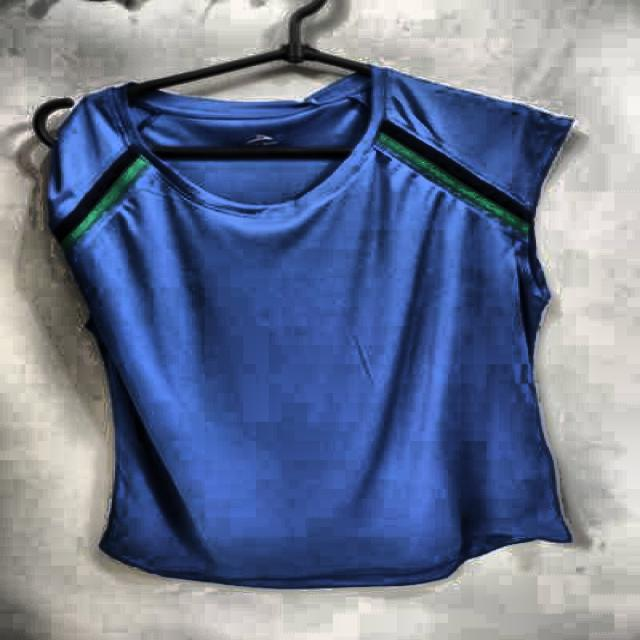clothes: (46, 67, 582, 593)
